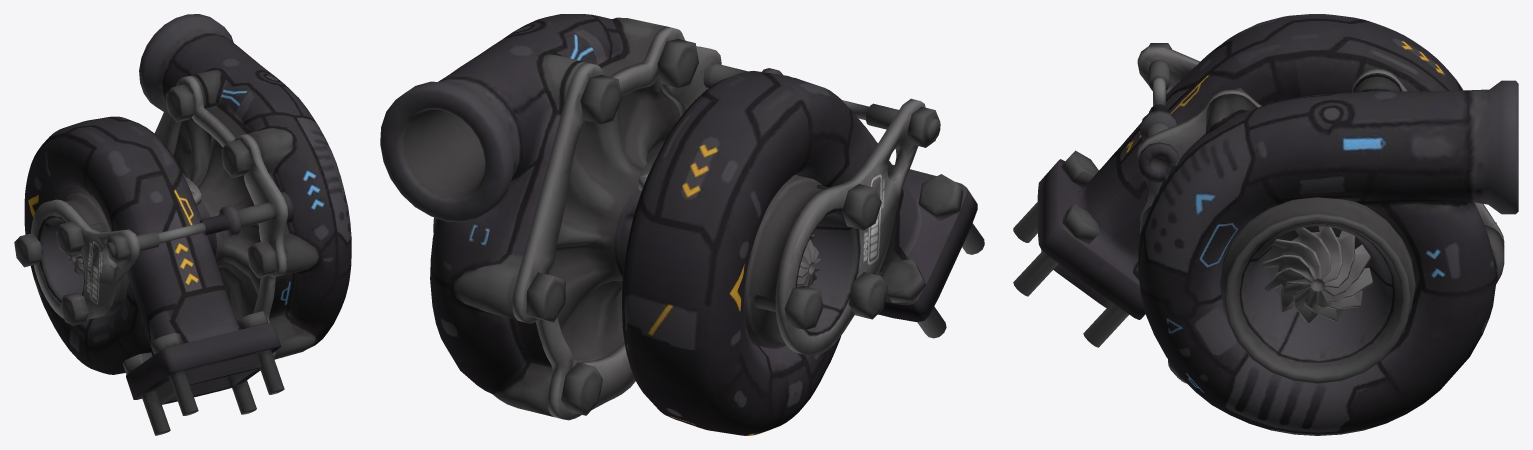
File: turbo-transformed.glb
The picture shows the model from 3 angles, left to right: view 1: azimuth 30°, elevation 25°; view 2: azimuth 150°, elevation 25°; view 3: azimuth 270°, elevation 25°; orthographic projection. The views are drawn at different scales.
Visible parts, largest first — view 1: Object_2; view 2: Object_2; view 3: Object_2.
Part boxes in pixels (bbox=[...]): Object_2: bbox=[14, 14, 351, 435]; Object_2: bbox=[380, 14, 984, 435]; Object_2: bbox=[1013, 14, 1518, 435].
Size of the model in its own units: 7.19 by 7.02 by 9.34.
Materials: 1 (1 with a texture image).
